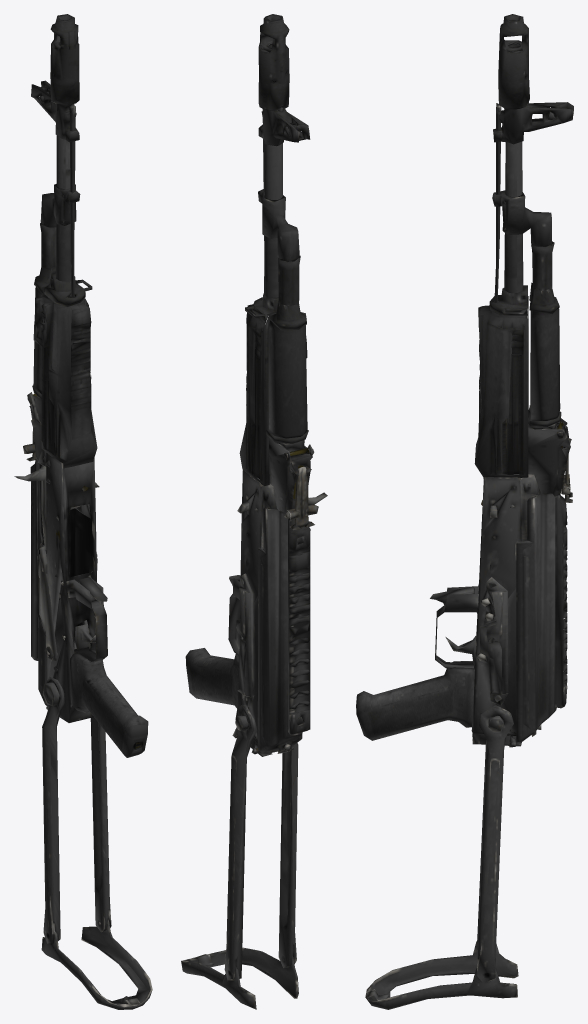
Rendered from AK103SkeleNoMag.fbx.
3 views of the same model, side by side, from view 1: azimuth 30°, elevation 25°; view 2: azimuth 210°, elevation 25°; view 3: azimuth 270°, elevation 25° (orthographic). The views are drawn at different scales.
Visible parts, largest first — view 1: reducedStockWire; view 2: reducedStockWire; view 3: reducedStockWire.
Boxes of the visible parts, bbox=[...] form: reducedStockWire: bbox=[14, 14, 152, 1009]; reducedStockWire: bbox=[181, 14, 327, 1009]; reducedStockWire: bbox=[356, 14, 573, 1009].
Size of the model in its own units: 0.0475 by 0.5946 by 0.1191.
